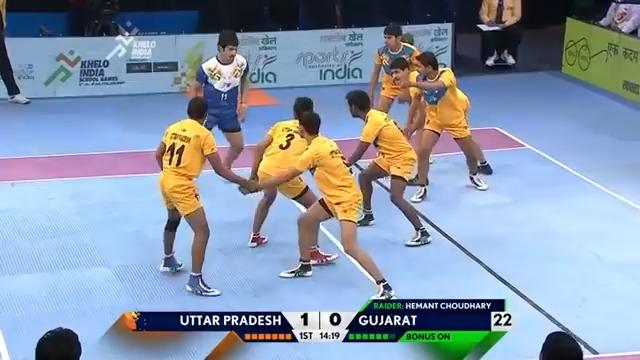Player: (243, 109, 395, 300), (154, 95, 257, 296), (238, 96, 339, 265), (391, 50, 492, 202), (343, 89, 432, 246), (367, 23, 419, 114)
Raider: (191, 29, 250, 181)
referee: (0, 0, 31, 104), (477, 0, 523, 67)
